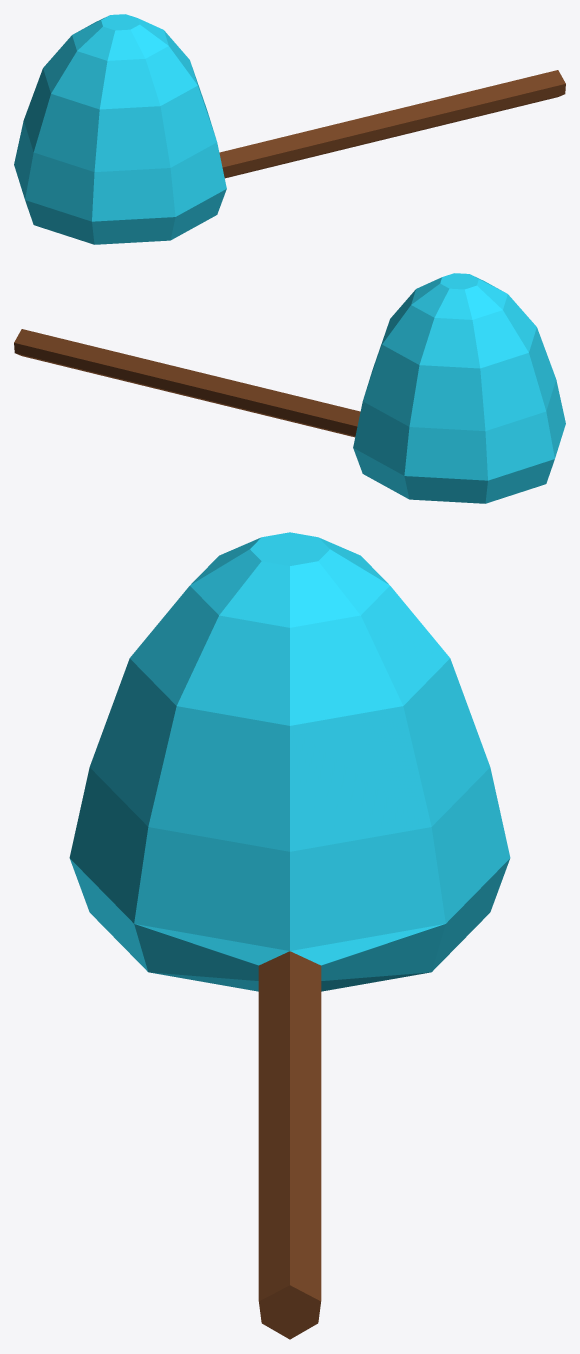
The model's file is net.fbx.
3 renders of one model, top to bottom at view 1: azimuth 30°, elevation 25°; view 2: azimuth 150°, elevation 25°; view 3: azimuth 270°, elevation 25°, orthographic. The views are drawn at different scales.
Parts seen in each view (by area): view 1: Cylinder; view 2: Cylinder; view 3: Cylinder.
Part boxes in pixels (x1=…): Cylinder: x1=14, y1=14, x2=565, y2=244; Cylinder: x1=14, y1=273, x2=565, y2=503; Cylinder: x1=69, y1=532, x2=510, y2=1339.
Bounding box in the file's own units: 614 × 200 × 220.
